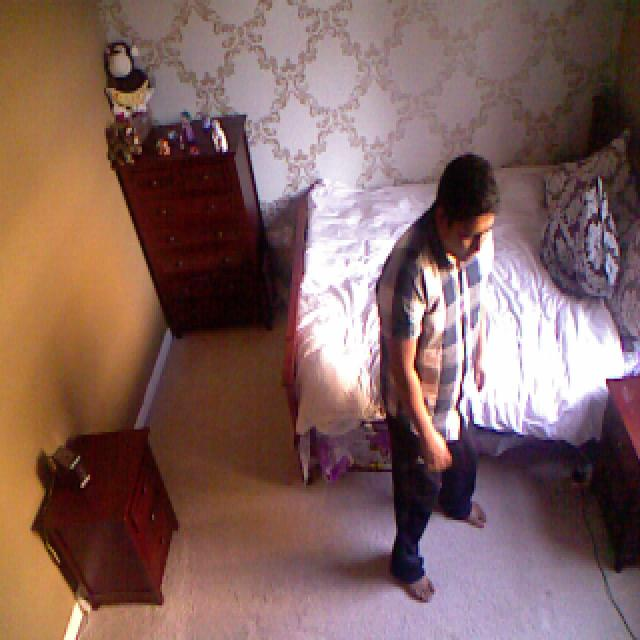standing: (372, 144, 512, 622)
